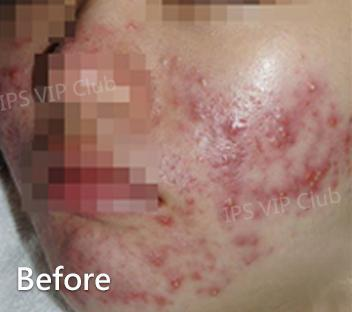fore: (221, 112, 252, 141), (254, 140, 278, 172), (243, 230, 266, 253), (261, 127, 294, 143), (190, 262, 210, 286), (213, 165, 236, 184), (264, 107, 291, 123), (81, 250, 102, 270), (147, 244, 166, 266), (201, 248, 219, 270), (189, 88, 206, 110), (293, 202, 316, 218), (322, 111, 340, 131), (210, 90, 230, 108), (151, 291, 170, 309), (154, 216, 174, 233), (204, 113, 221, 133), (172, 89, 188, 110), (297, 95, 315, 113), (249, 205, 267, 223), (229, 232, 243, 254), (194, 181, 212, 198), (192, 134, 211, 150), (245, 254, 262, 271), (121, 24, 139, 40), (235, 146, 251, 164), (313, 161, 339, 172), (179, 194, 194, 213), (6, 68, 26, 82), (12, 35, 33, 48), (290, 118, 311, 131), (125, 288, 142, 304), (301, 82, 318, 98), (326, 173, 341, 191), (174, 115, 189, 133), (190, 106, 203, 126), (167, 238, 182, 255), (277, 185, 291, 203), (167, 275, 185, 289), (193, 153, 211, 167), (223, 145, 236, 164), (308, 172, 324, 187), (280, 154, 296, 169), (290, 179, 304, 196), (327, 98, 339, 117), (221, 199, 237, 213), (246, 180, 262, 194), (255, 189, 271, 203), (101, 292, 118, 305), (169, 51, 184, 65), (158, 55, 172, 70), (208, 280, 223, 293), (262, 242, 275, 257), (228, 182, 244, 194), (71, 227, 84, 240), (186, 171, 199, 184), (193, 234, 208, 245), (342, 158, 351, 175), (198, 74, 209, 87), (341, 130, 351, 143), (118, 237, 129, 248), (115, 227, 125, 238), (341, 144, 351, 155)
